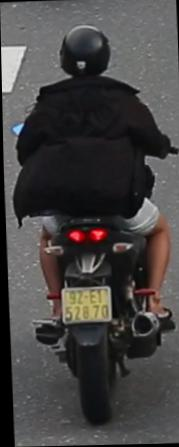LP: (57, 281, 112, 327)
helmet: (56, 17, 111, 79)
